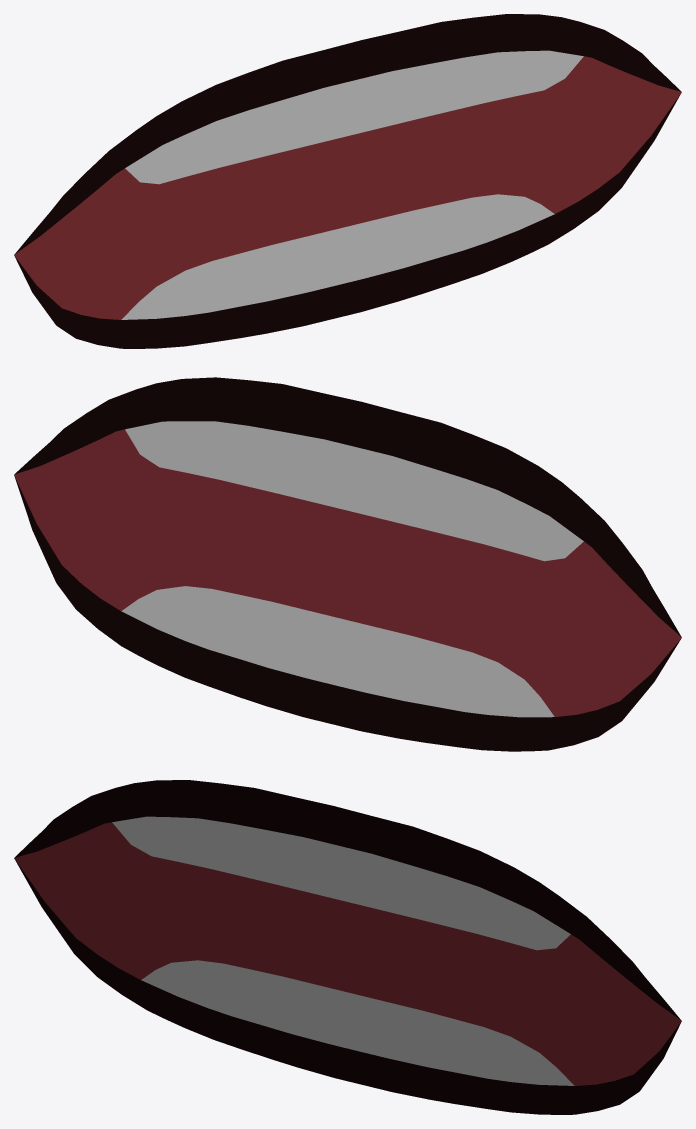
Rendered from flip_l.glb.
The picture shows the model from 3 angles, top to bottom: view 1: azimuth 30°, elevation 25°; view 2: azimuth 150°, elevation 25°; view 3: azimuth 330°, elevation 25°; orthographic projection.
Parts seen in each view (by area): view 1: flip_l; view 2: flip_l; view 3: flip_l.
Part boxes in pixels (x1=…): flip_l: x1=14, y1=14, x2=681, y2=348; flip_l: x1=14, y1=377, x2=681, y2=751; flip_l: x1=14, y1=780, x2=681, y2=1114.
Bounding box in the file's own units: 0.082 × 0.0353 × 0.00629.
